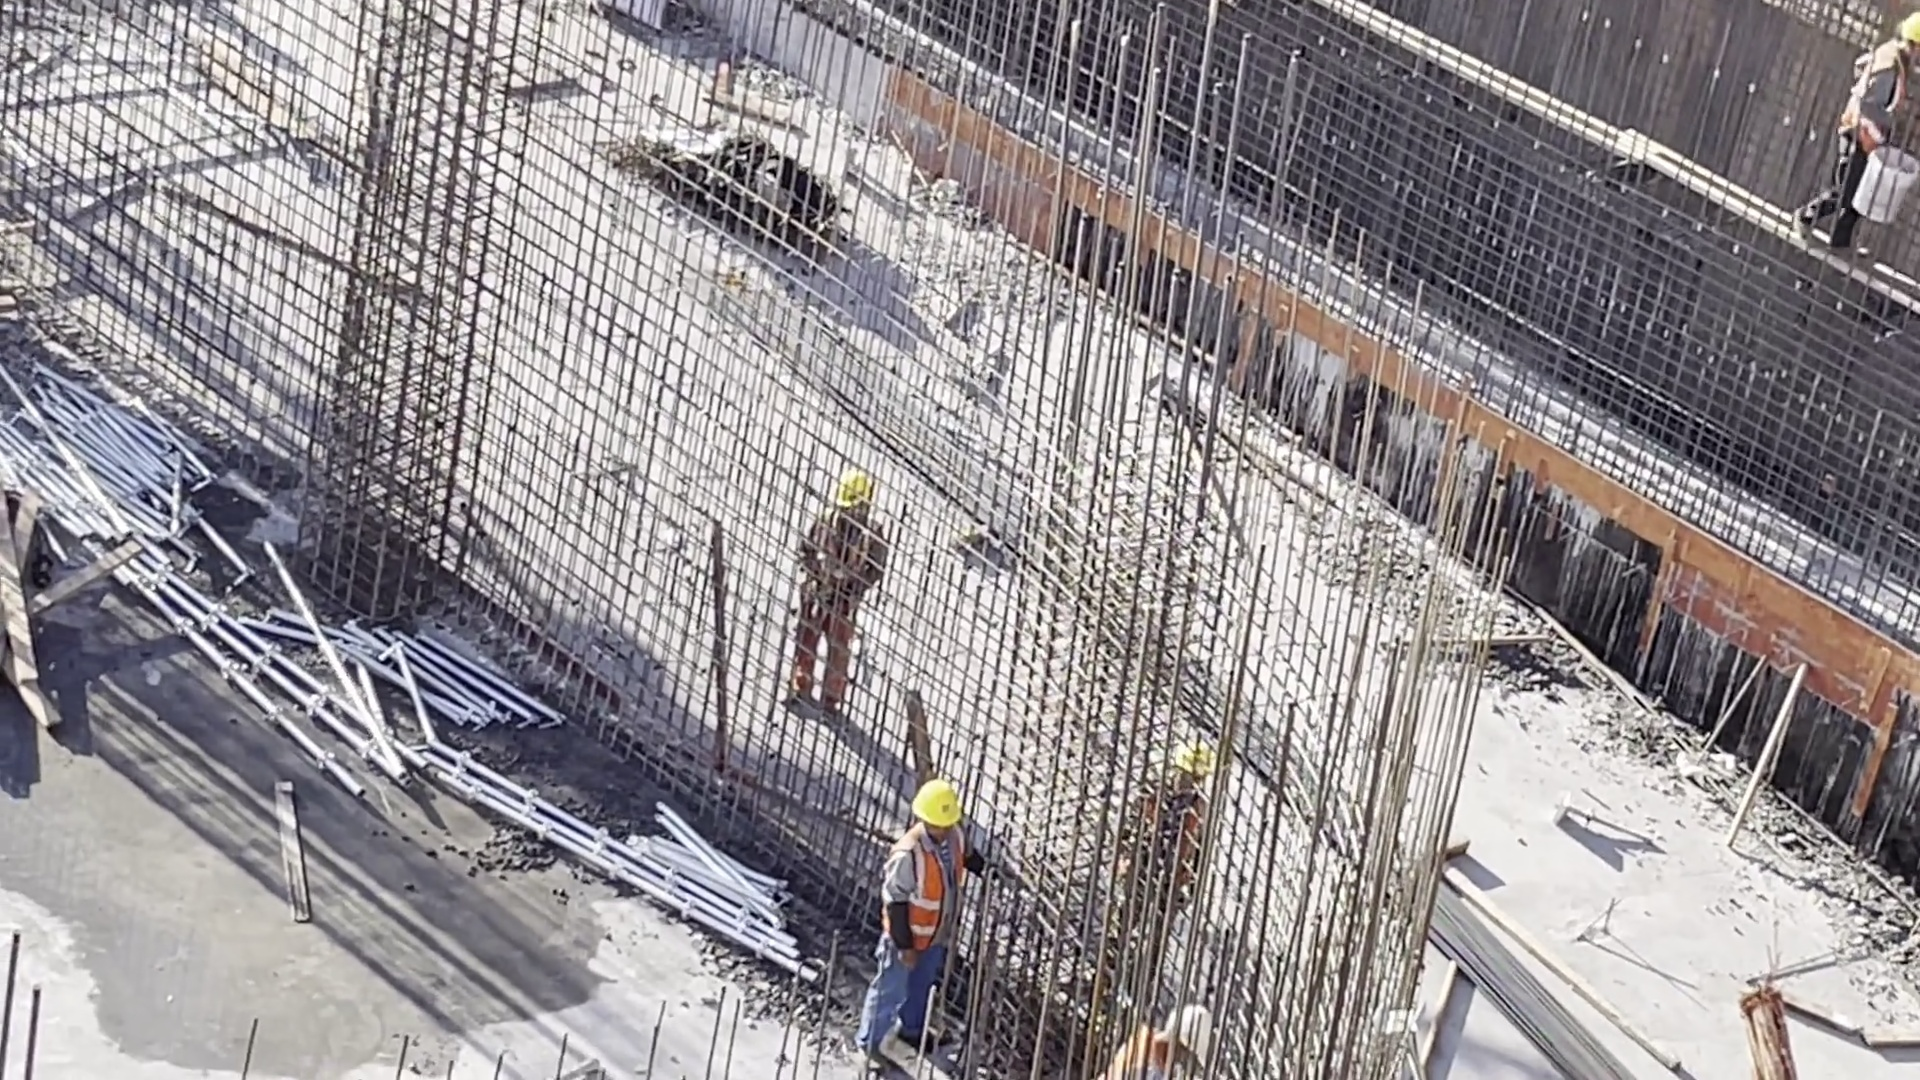helmet: (911, 771, 960, 839), (1167, 1002, 1219, 1060), (1171, 732, 1226, 780), (840, 472, 873, 520), (1893, 9, 1920, 49)
person: (845, 775, 993, 1038), (1797, 3, 1920, 278), (1122, 743, 1215, 991), (799, 482, 889, 711), (1092, 994, 1234, 1080)
vest: (891, 824, 980, 936), (1849, 45, 1917, 154), (820, 520, 872, 621), (1133, 792, 1187, 884), (1124, 1030, 1196, 1080)
